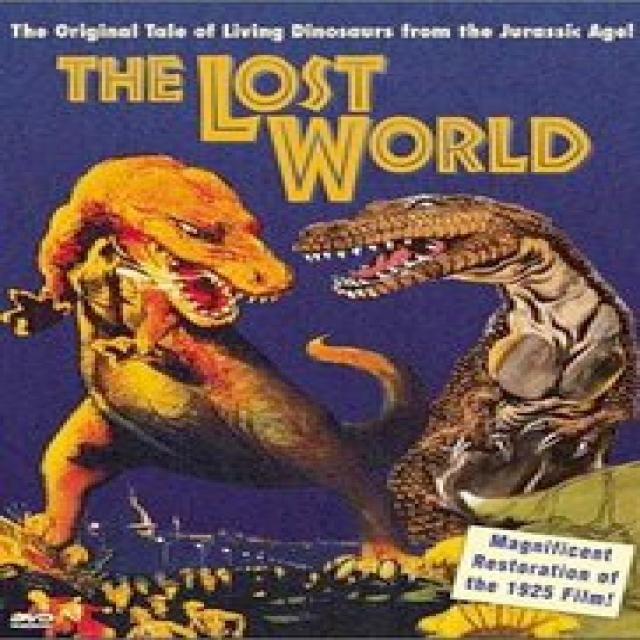movie-judul: (50, 48, 607, 191)
picture: (5, 12, 632, 635)
